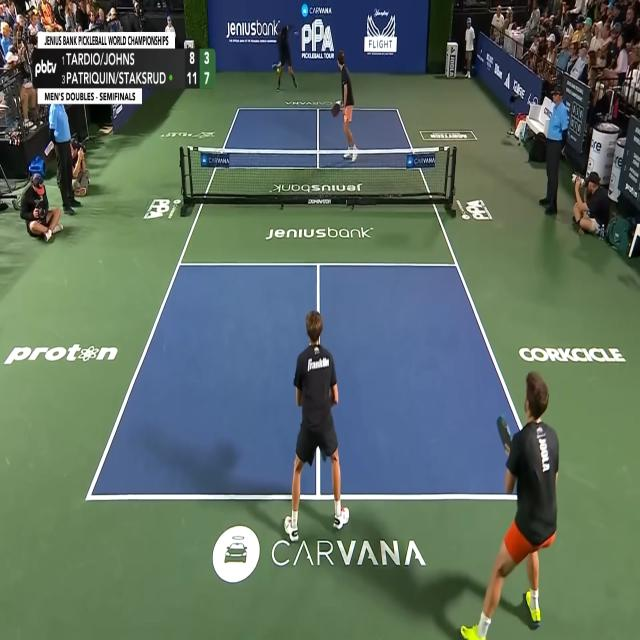ball: (277, 67, 280, 73)
